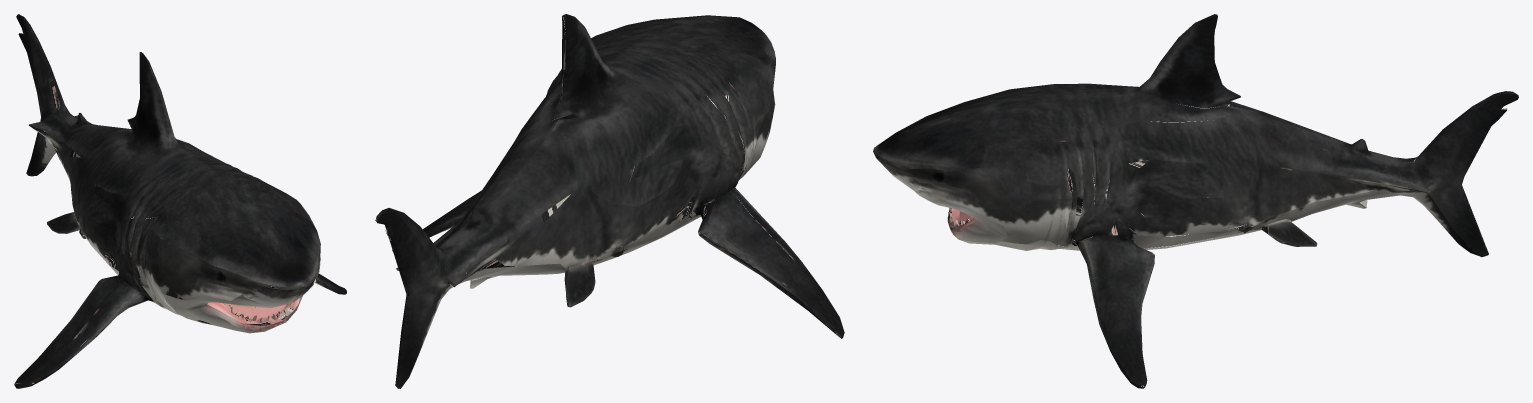
Rendered from tubarao.glb.
The picture shows the model from 3 angles, left to right: view 1: azimuth 30°, elevation 25°; view 2: azimuth 150°, elevation 25°; view 3: azimuth 270°, elevation 25°; orthographic projection. The views are drawn at different scales.
Parts seen in each view (by area): view 1: geometry_0; view 2: geometry_0; view 3: geometry_0.
Part boxes in pixels (x1=…): geometry_0: x1=14, y1=14, x2=346, y2=388; geometry_0: x1=375, y1=14, x2=844, y2=388; geometry_0: x1=873, y1=14, x2=1518, y2=388.
Bounding box in the file's own units: 2.59 × 1.84 × 3.8.
Materials: 1 (1 with a texture image).
